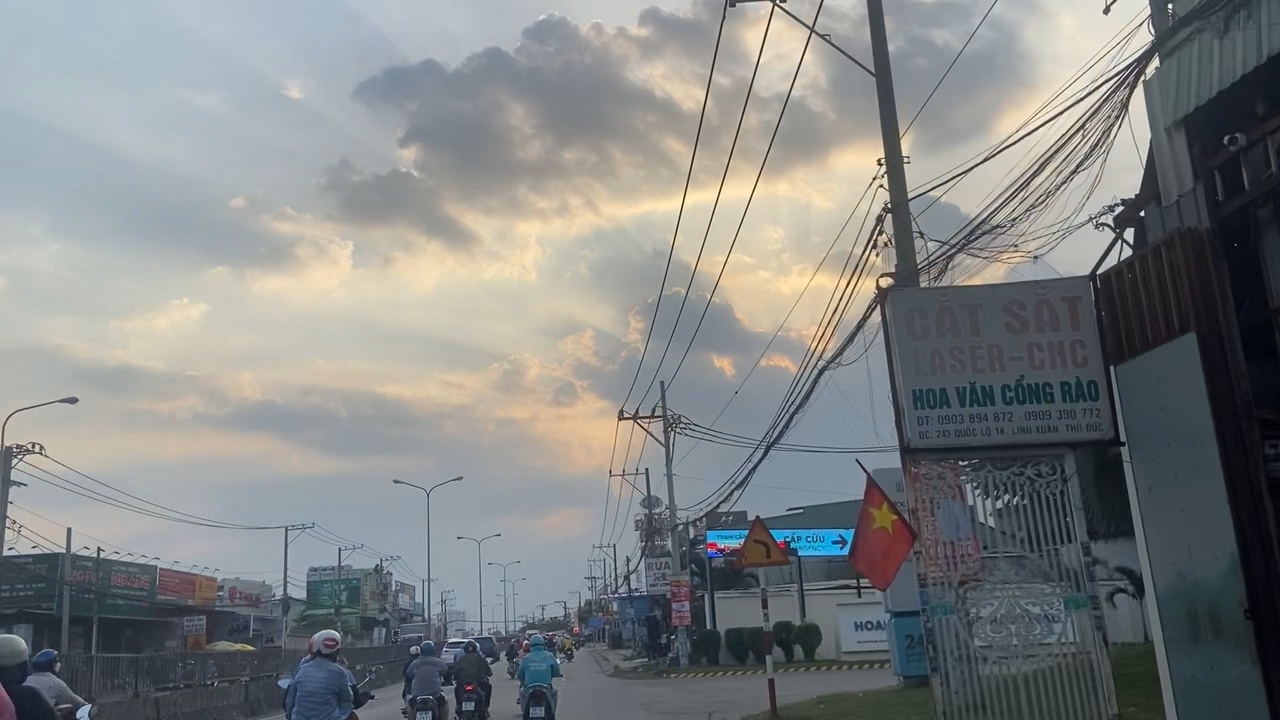duong_nghieng_trai: (728, 510, 796, 572)
